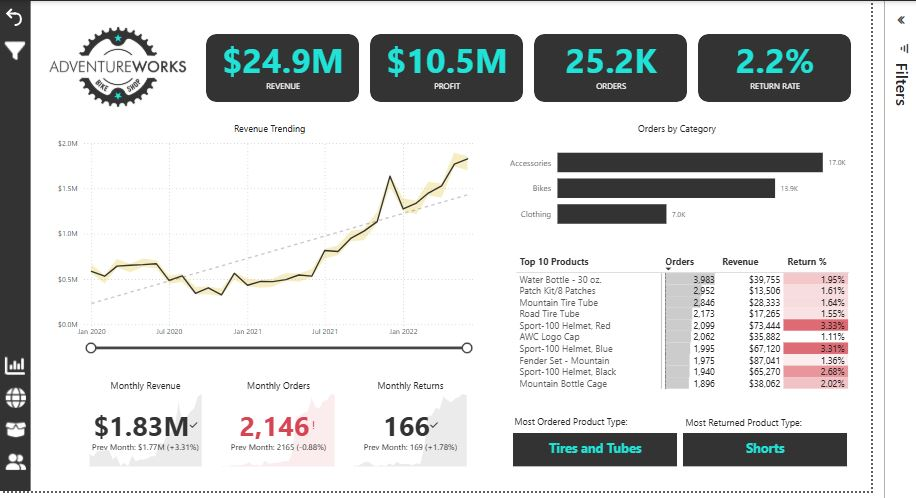

The dashboard page shown, as its layout file describes it:
{"tool":"powerbi","page":{"name":"Exec Dashboard","canvas":[1280,720],"ordinal":0},"visuals":[{"type":"card","fields":{"Values":["Measure Table.Total Revenue"]},"box":[288.1,17.8,256.2,150],"z":0,"group":"g2"},{"type":"image","title":"AW Logo","box":[45.6,26.6,256.2,141.2],"z":0},{"type":"shape","box":[303.1,47.8,225,100],"z":0,"group":"g1"},{"type":"actionButton","box":[2.5,516.7,45.6,37.8],"z":0,"group":"g3"},{"type":"card","fields":{"Values":["Measure Table.Total Profit"]},"box":[528.9,17.8,256.2,150],"z":1000,"group":"g2"},{"type":"shape","box":[543.9,47.8,225,100],"z":1000,"group":"g1"},{"type":"actionButton","box":[3.3,563.4,45.6,37.8],"z":1000,"group":"g3"},{"type":"card","fields":{"Values":["Measure Table.Total Orders"]},"box":[769.8,17.8,256.2,150],"z":2000,"group":"g2"},{"type":"group","id":"g1","title":"KPI Backgrounds","box":[303.1,47.8,947.5,100],"z":2000},{"type":"shape","box":[784.8,47.8,225,100],"z":2000,"group":"g1"},{"type":"actionButton","box":[3.3,611.1,45.6,37.8],"z":2000,"group":"g3"},{"type":"shape","title":"Left Nav Background","box":[0,0,45,720],"z":3000},{"type":"card","fields":{"Values":["Measure Table.Return Rate"]},"box":[1010.6,17.8,256.2,150],"z":3000,"group":"g2"},{"type":"shape","box":[1025.6,47.8,225,100],"z":3000,"group":"g1"},{"type":"actionButton","box":[3.3,657.8,45.6,37.8],"z":3000,"group":"g3"},{"type":"group","id":"g2","title":"KPI Values","box":[288.1,17.8,978.8,150],"z":4000},{"type":"lineChart","title":"Revenue Trending","fields":{"Y":["Measure Table.Total Revenue"],"Category":["Calendar Lookup.Start of Month"]},"box":[78.9,177.7,633.8,342.5],"z":5000},{"type":"kpi","title":"Monthly Revenue","fields":{"Indicator":["Measure Table.Total Revenue"],"TrendLine":["Calendar Lookup.Start of Month"],"Goal":["Measure Table.Previous Month Revenue"]},"box":[126.2,555,175,133.8],"z":6000},{"type":"kpi","title":"Monthly Orders","fields":{"TrendLine":["Calendar Lookup.Start of Month"],"Indicator":["Measure Table.Total Orders"],"Goal":["Measure Table.Previous Month Orders"]},"box":[321.2,555,175,133.8],"z":7000},{"type":"kpi","title":"Monthly Returns","fields":{"TrendLine":["Calendar Lookup.Start of Month"],"Indicator":["Measure Table.Total Returns"],"Goal":["Measure Table.Previous Month Returns"]},"box":[516.2,555,175,133.8],"z":8000},{"type":"clusteredBarChart","title":"Orders by Category","fields":{"Category":["Product Categories Lookup.CategoryName"],"Y":["Measure Table.Total Orders"]},"box":[738.9,177.7,511.2,171.2],"z":9000},{"type":"pivotTable","fields":{"Rows":["Product Lookup.ProductName"],"Values":["Measure Table.Total Orders","Measure Table.Total Revenue","Measure Table.Return Rate"]},"box":[753.7,369.2,511.1,228.4],"z":10000},{"type":"card","fields":{"Values":["Min(Product Subcategories Lookup.SubcategoryName)"]},"box":[753.7,634.2,241.4,48.5],"z":11000},{"type":"textbox","box":[751.3,604.6,198.8,35.5],"z":12000},{"type":"card","fields":{"Values":["Min(Product Subcategories Lookup.SubcategoryName)"]},"box":[1004.1,634.2,241.4,48.5],"z":13000},{"type":"textbox","box":[1002.2,605.2,198.8,35.5],"z":14000},{"type":"actionButton","box":[3.3,5.6,35.6,35.6],"z":15000},{"type":"group","id":"g3","title":"Navigation Buttons","box":[2.5,516.7,46.4,178.9],"z":16000},{"type":"actionButton","box":[3.4,53.1,38.4,39.6],"z":17000}]}

Visuals, with their boxes on the page's 1280x720 design canvas (x1, y1, x2, y2). These are canvas units, not pixel positions in the 916x498 screenshot, which may show the page scaled, cropped or inside an application window:
card - Measure Table.Total Revenue: 288/18/544/168
"AW Logo" image: 46/27/302/168
shape: 303/48/528/148
actionButton: 2/517/48/554
card - Measure Table.Total Profit: 529/18/785/168
shape: 544/48/769/148
actionButton: 3/563/49/601
card - Measure Table.Total Orders: 770/18/1026/168
"KPI Backgrounds" group: 303/48/1251/148
shape: 785/48/1010/148
actionButton: 3/611/49/649
"Left Nav Background" shape: 0/0/45/720
card - Measure Table.Return Rate: 1011/18/1267/168
shape: 1026/48/1251/148
actionButton: 3/658/49/696
"KPI Values" group: 288/18/1267/168
"Revenue Trending" lineChart: 79/178/713/520
"Monthly Revenue" kpi: 126/555/301/689
"Monthly Orders" kpi: 321/555/496/689
"Monthly Returns" kpi: 516/555/691/689
"Orders by Category" clusteredBarChart: 739/178/1250/349
pivotTable - Product Lookup.ProductName x Measure Table.Total Orders: 754/369/1265/598
card - Min(Product Subcategories Lookup.SubcategoryName): 754/634/995/683
textbox: 751/605/950/640
card - Min(Product Subcategories Lookup.SubcategoryName): 1004/634/1246/683
textbox: 1002/605/1201/641
actionButton: 3/6/39/41
"Navigation Buttons" group: 2/517/49/696
actionButton: 3/53/42/93
